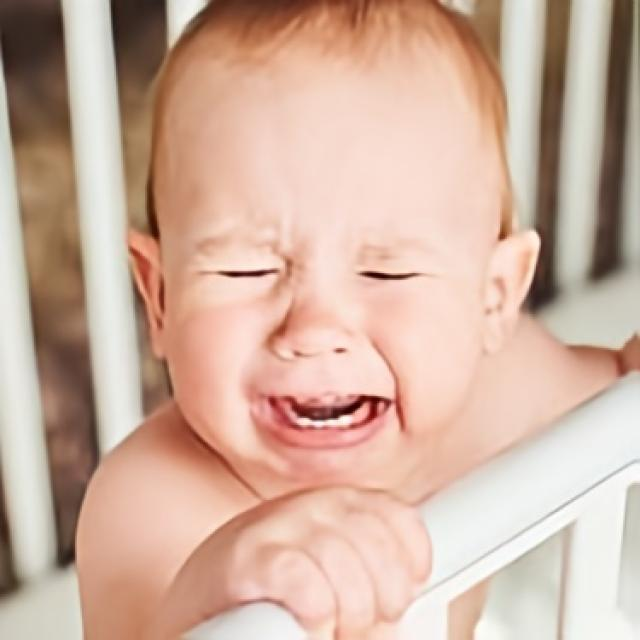sad: (154, 62, 504, 488)
